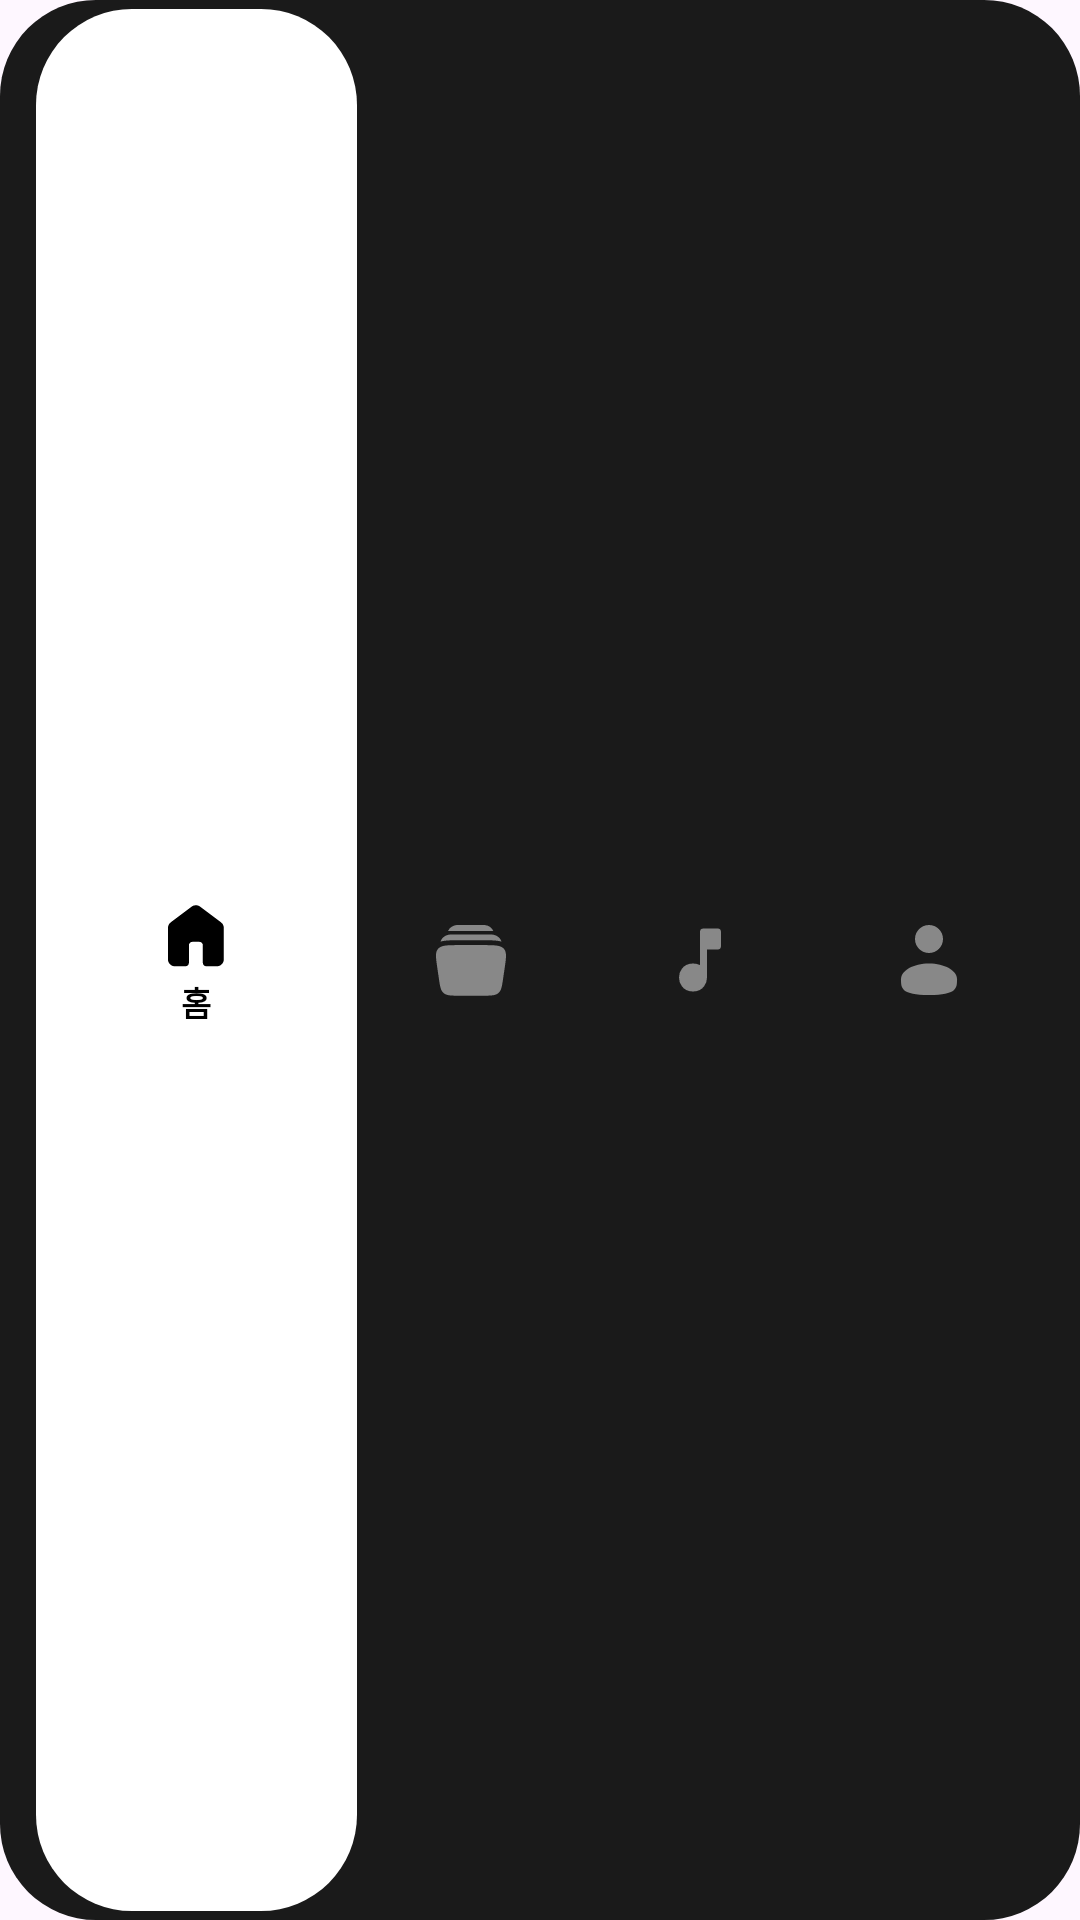

Screen size 1080*1920. Icon name, then its box in pixels as (x1, y1, x2, y2):
library nav: (436, 925, 506, 996)
mypage nav: (901, 925, 957, 995)
